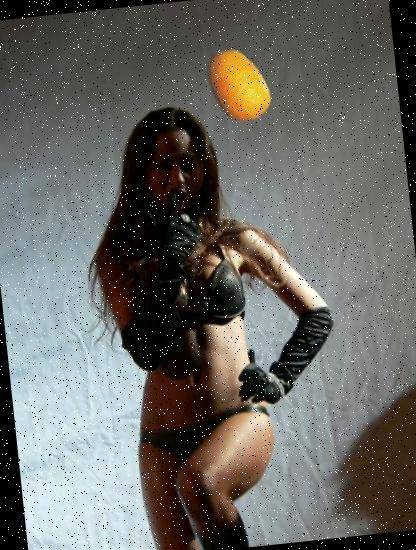Kumquats: (196, 44, 280, 128)
